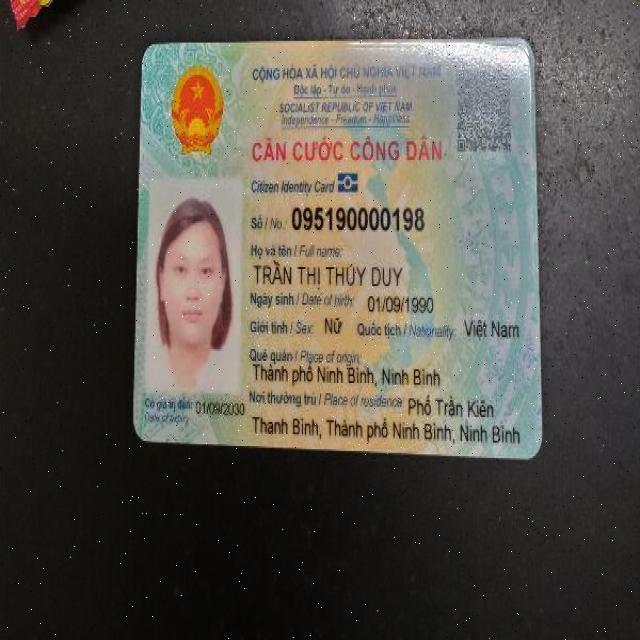current_place: (248, 415, 524, 448), (406, 390, 497, 420)
dob: (362, 283, 437, 319)
expire_date: (193, 398, 252, 422)
gender: (319, 310, 346, 340)
id: (291, 200, 425, 236)
name: (254, 258, 404, 294)
nationality: (456, 311, 531, 352)
origin_place: (248, 364, 446, 391)
